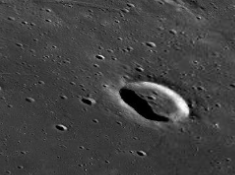crater: (100, 74, 211, 151)
